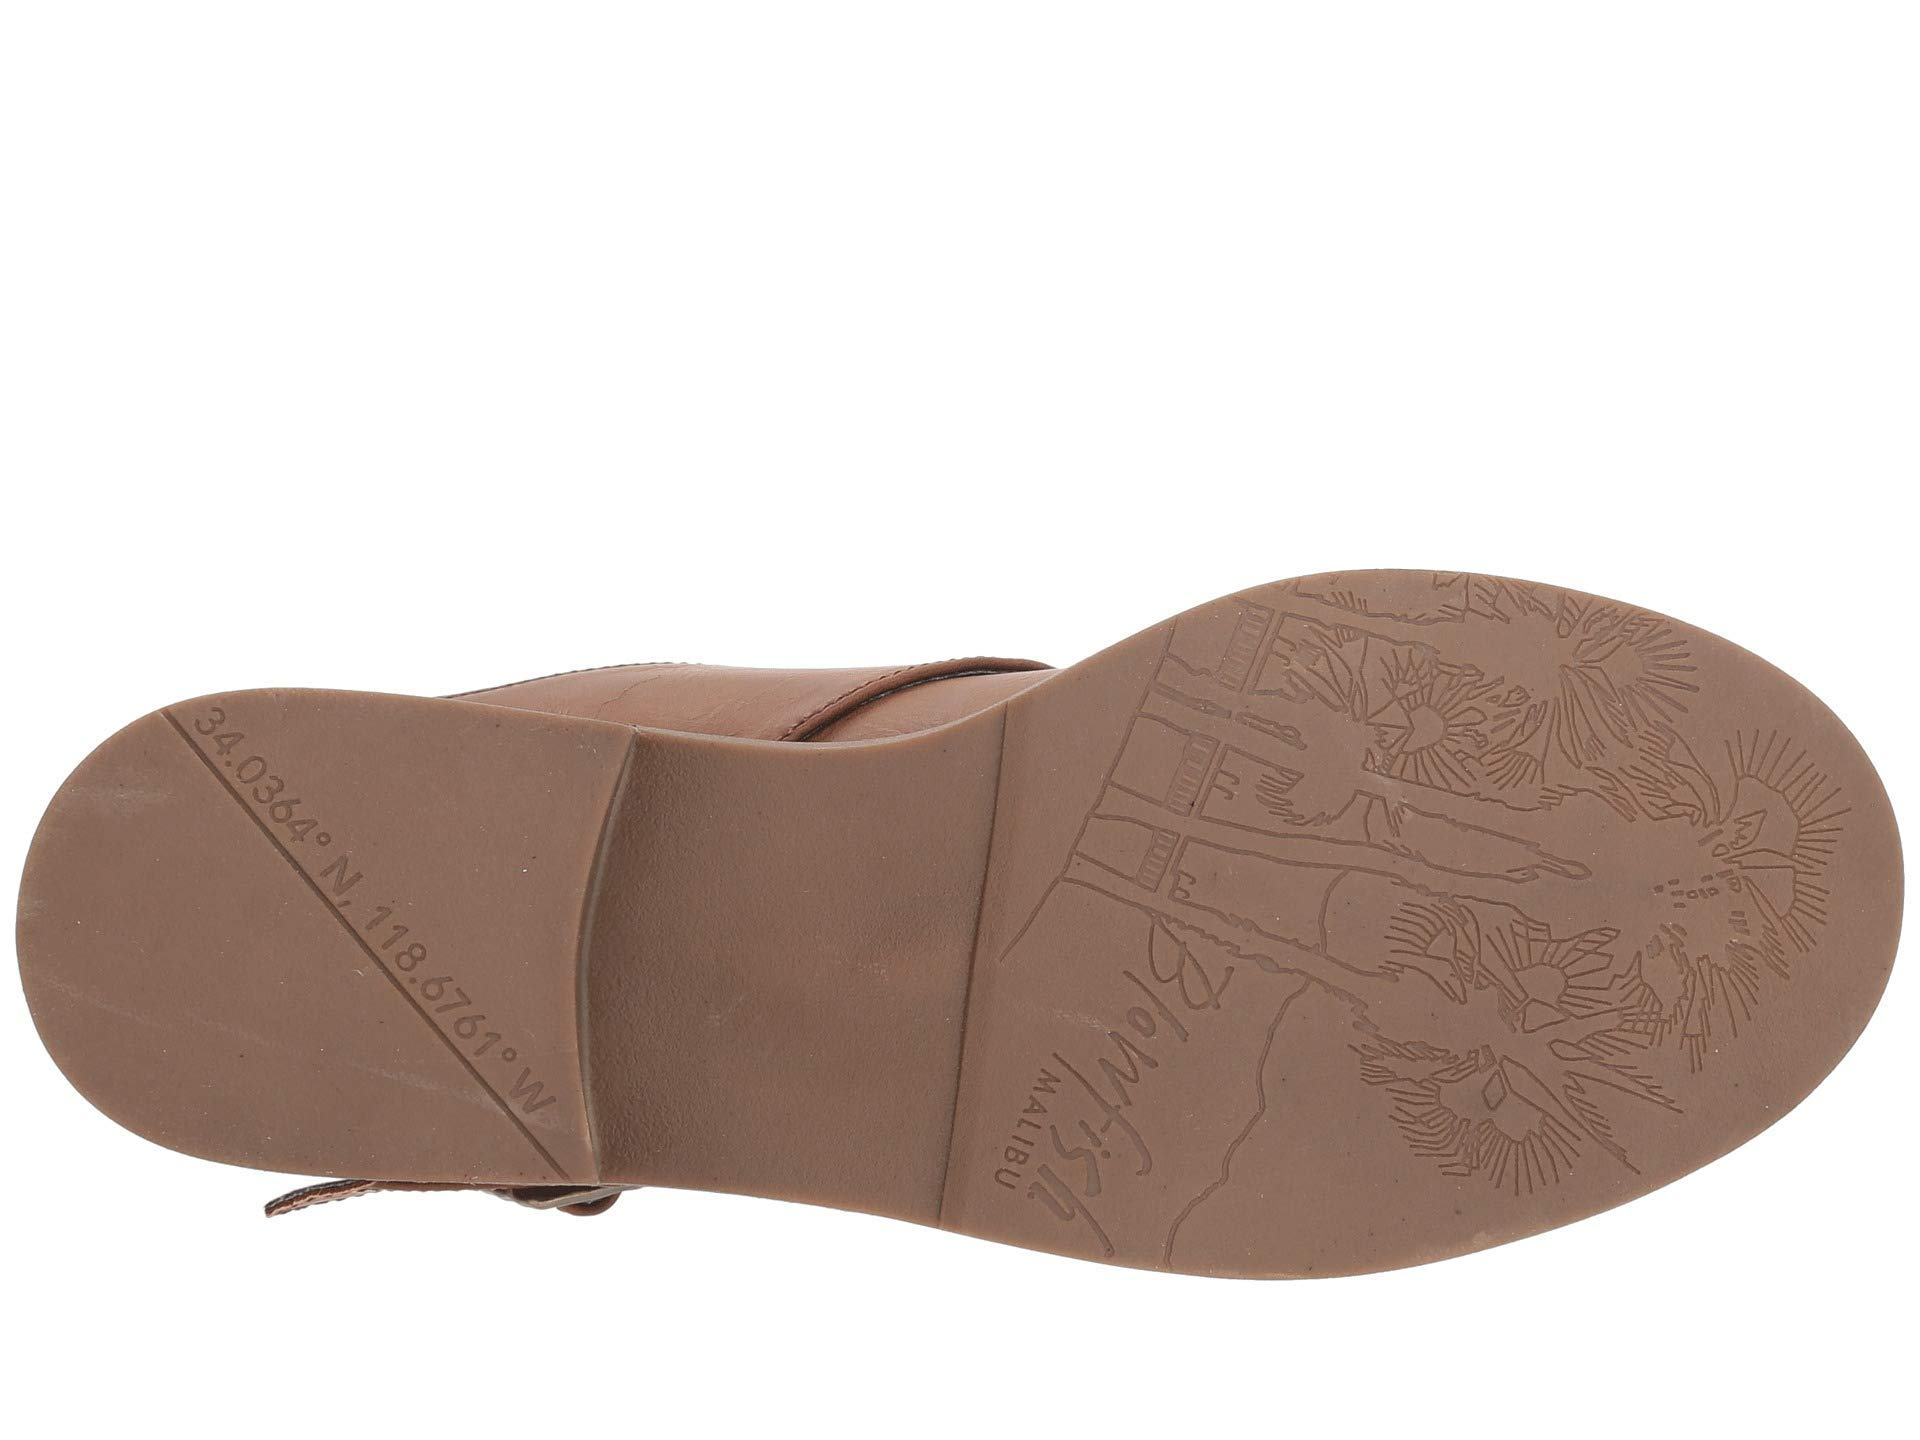chevron: (1349, 626, 1802, 1127)
circle: (172, 697, 591, 1171), (992, 888, 1267, 1269)
line: (1349, 626, 1802, 1127), (172, 697, 591, 1171), (992, 888, 1267, 1269)
other: (1349, 626, 1802, 1127)
quad: (1349, 626, 1802, 1127)
star: (1349, 626, 1802, 1127)
text: (172, 697, 591, 1171), (992, 888, 1267, 1269)
triangle: (1349, 626, 1802, 1127)
